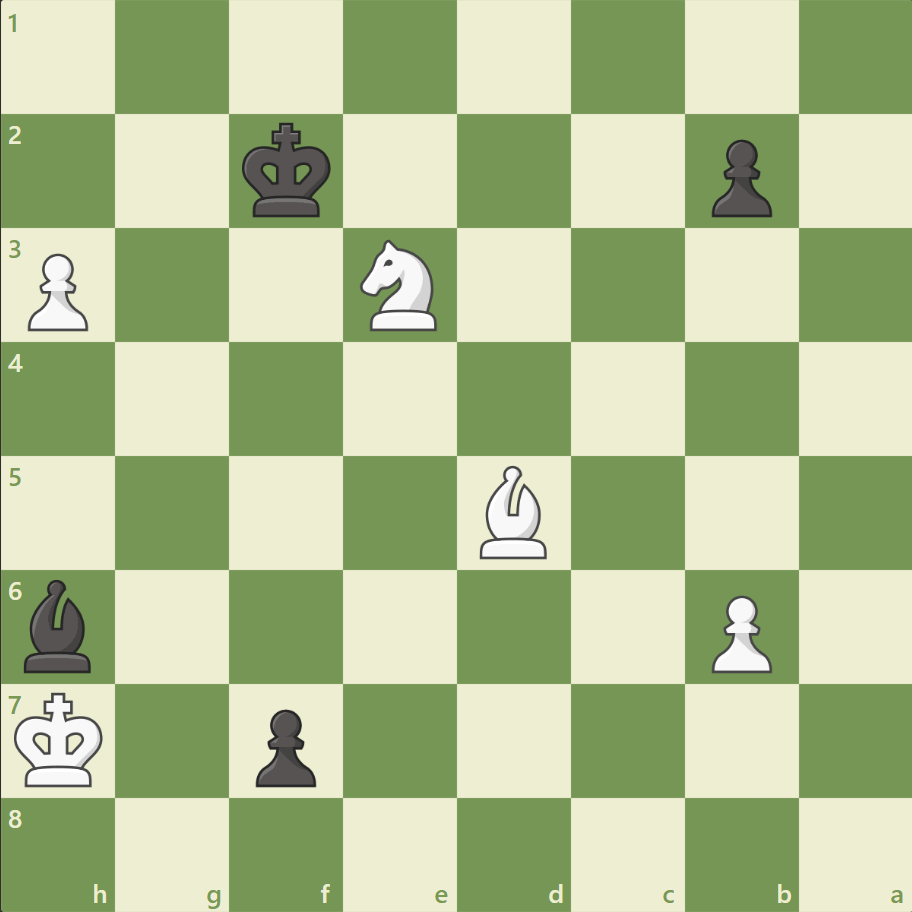B: (471, 460, 555, 563)
K: (11, 685, 111, 793)
N: (351, 234, 449, 337)
P: (701, 586, 776, 677), (20, 246, 95, 337)
b: (17, 574, 101, 676)
k: (238, 117, 338, 225)
p: (247, 700, 322, 791), (701, 132, 776, 223)
